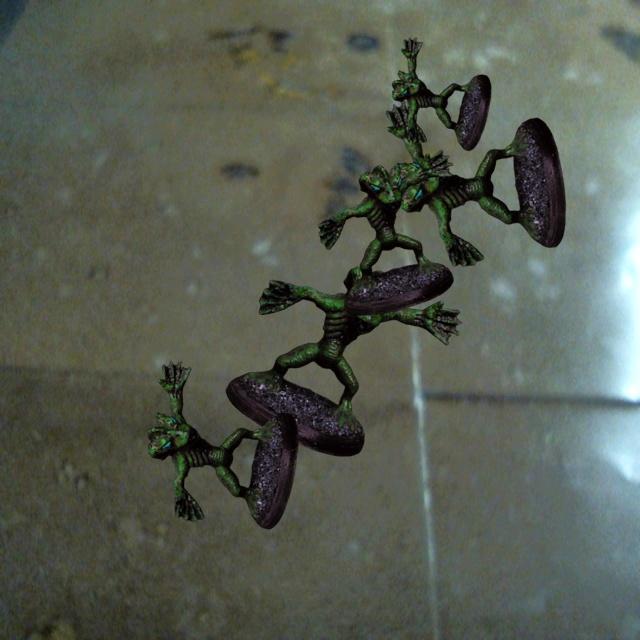pieza_juego: (226, 266, 461, 456), (386, 101, 565, 266), (147, 361, 298, 529), (318, 150, 453, 315), (392, 37, 491, 150)
